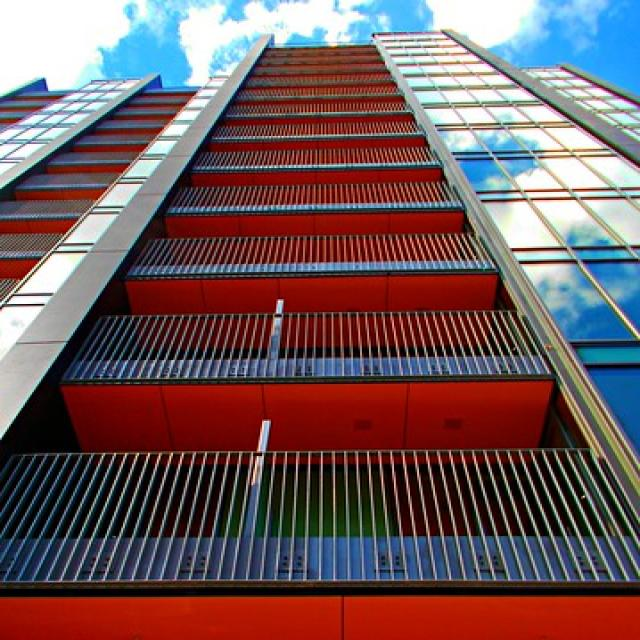building: (5, 11, 640, 640)
